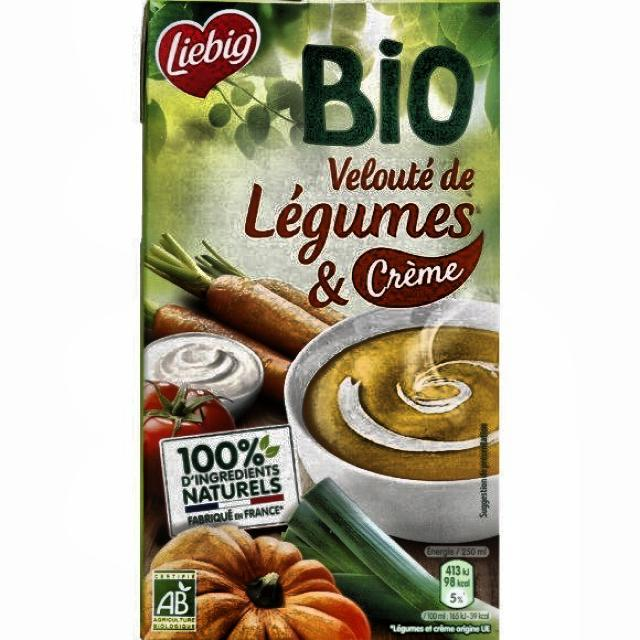cardboard: (139, 0, 500, 637)
